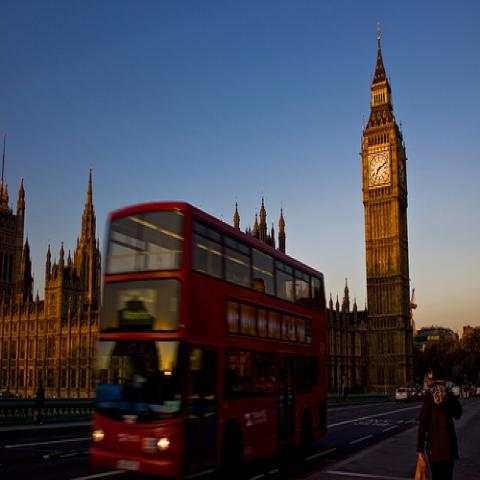bus: (85, 201, 329, 470)
car: (395, 388, 409, 402), (406, 388, 416, 402), (422, 389, 429, 398), (417, 389, 422, 395)
